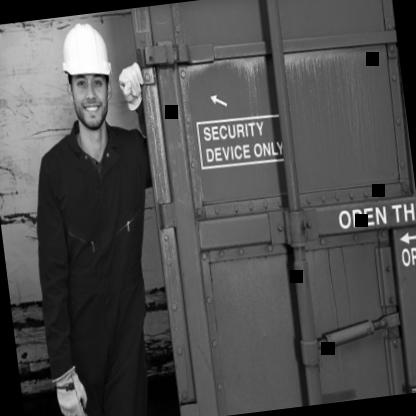helmet: (46, 10, 133, 150)
